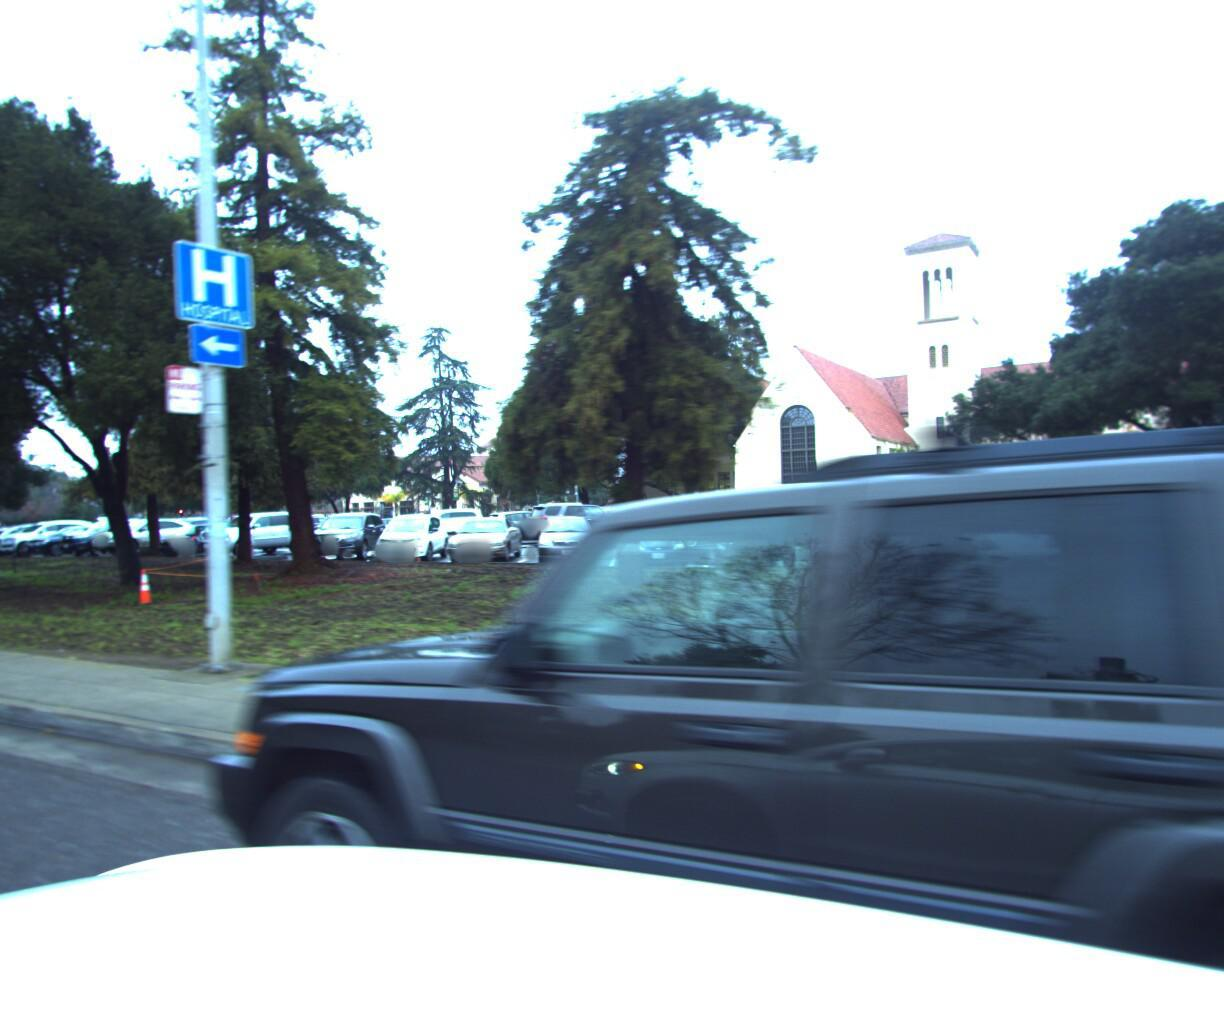car: (112, 239, 1224, 1024)
